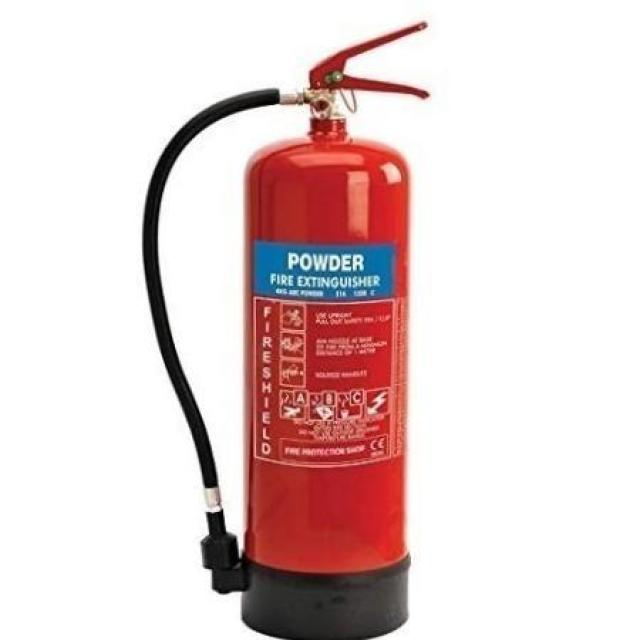fire_extinguisher: (134, 17, 434, 639)
